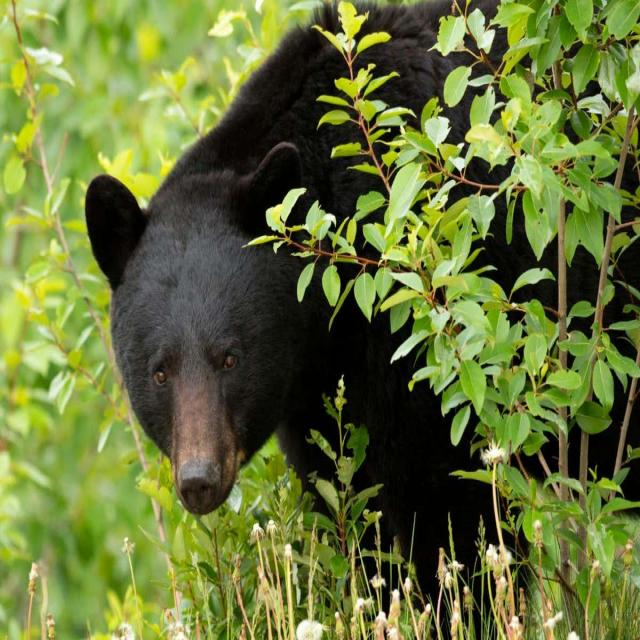Bear: (83, 0, 640, 534)
